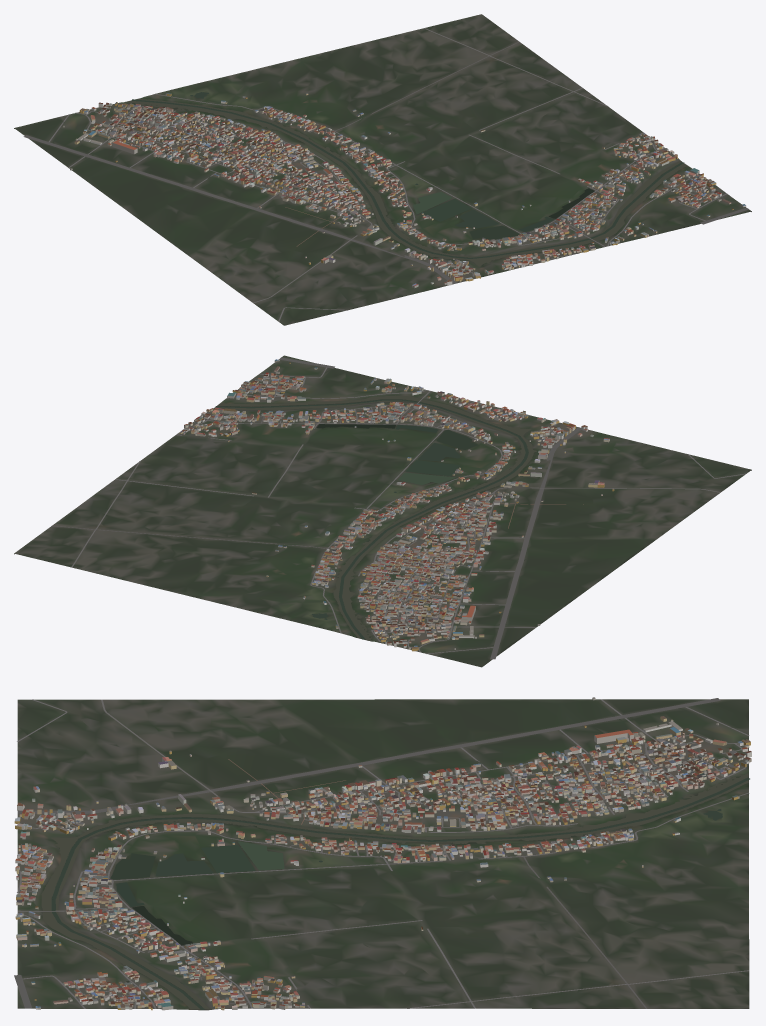
3 renders of one model, top to bottom at view 1: azimuth 30°, elevation 25°; view 2: azimuth 150°, elevation 25°; view 3: azimuth 270°, elevation 25°, orthographic. The views are drawn at different scales.
Parts seen in each view (by area): view 1: ground, buildings, water, roads; view 2: ground, buildings, water, roads; view 3: ground, buildings, water, roads.
Part boxes in pixels (left/top/right/bottom): ground: left=14, top=14, right=751, bottom=325; buildings: left=63, top=93, right=746, bottom=288; water: left=125, top=92, right=687, bottom=266; roads: left=23, top=28, right=748, bottom=321; ground: left=14, top=355, right=751, bottom=667; buildings: left=179, top=359, right=614, bottom=651; water: left=213, top=395, right=536, bottom=640; roads: left=52, top=357, right=746, bottom=659; ground: left=17, top=699, right=749, bottom=1010; buildings: left=14, top=697, right=751, bottom=1010; water: left=41, top=773, right=749, bottom=1010; roads: left=14, top=698, right=749, bottom=1008.
Size of the model in its own units: 1413 by 19.03 by 1414.
